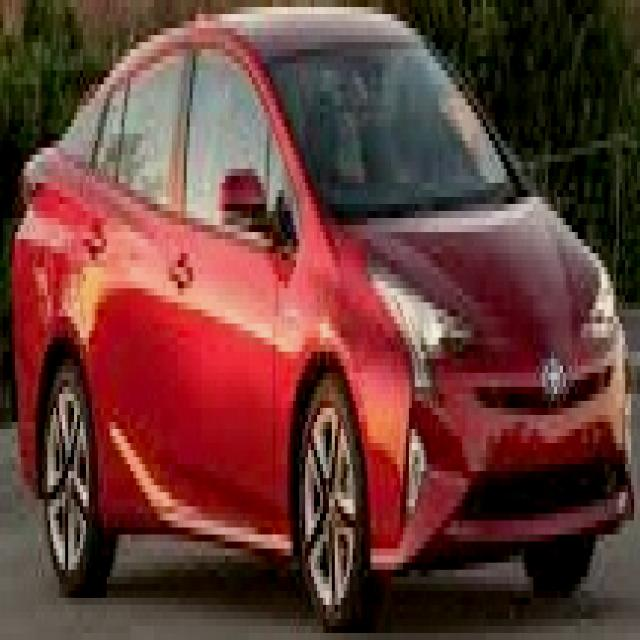red: (0, 8, 628, 620)
